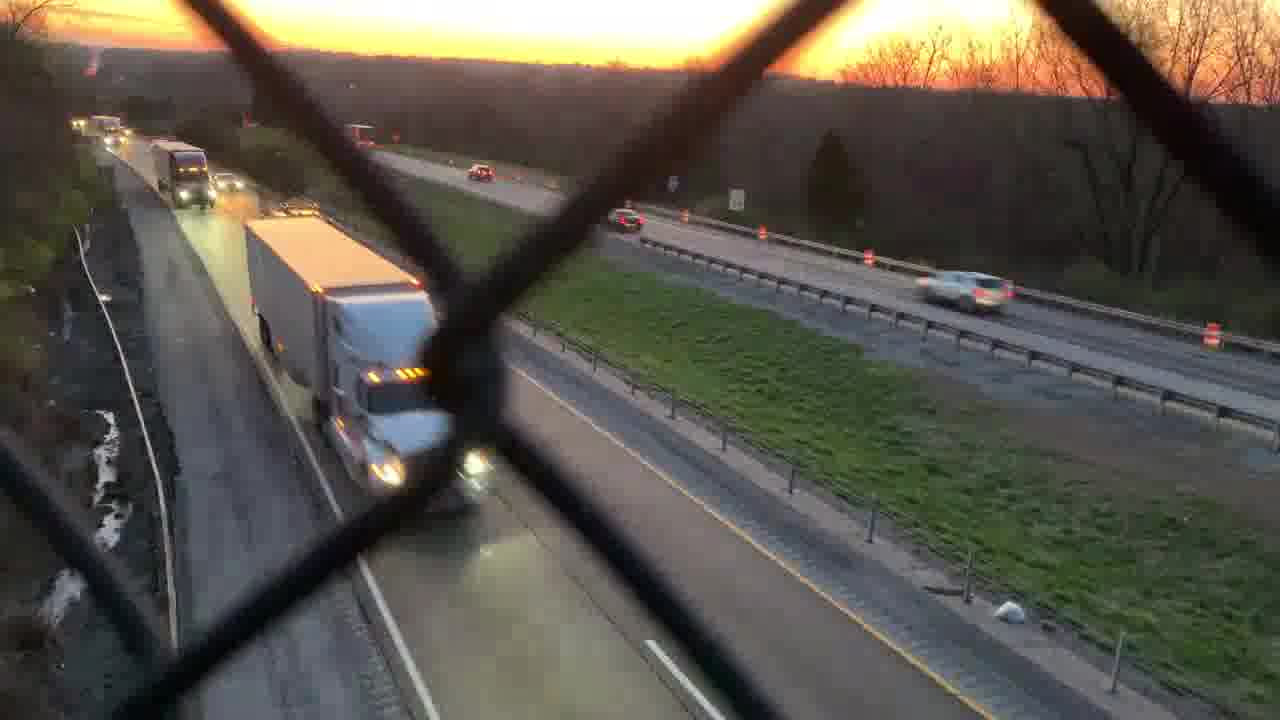heavyTruck: (237, 210, 504, 518), (146, 137, 214, 213)
largeCar: (917, 263, 1011, 315)
